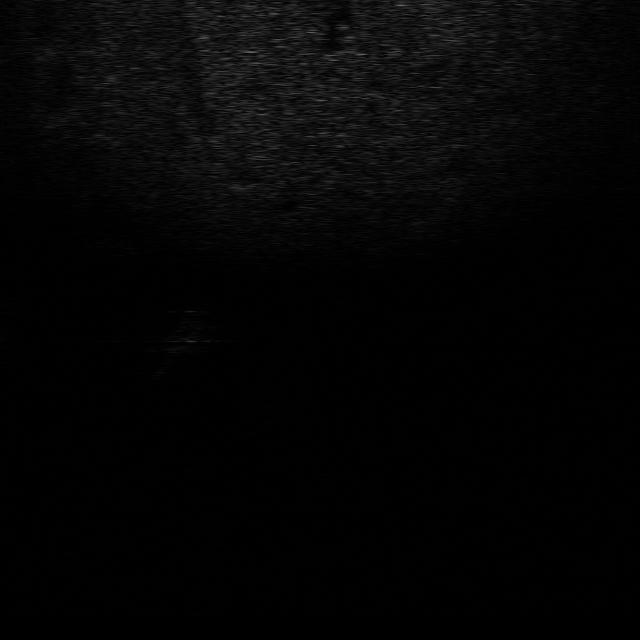human body: (146, 302, 218, 379)
